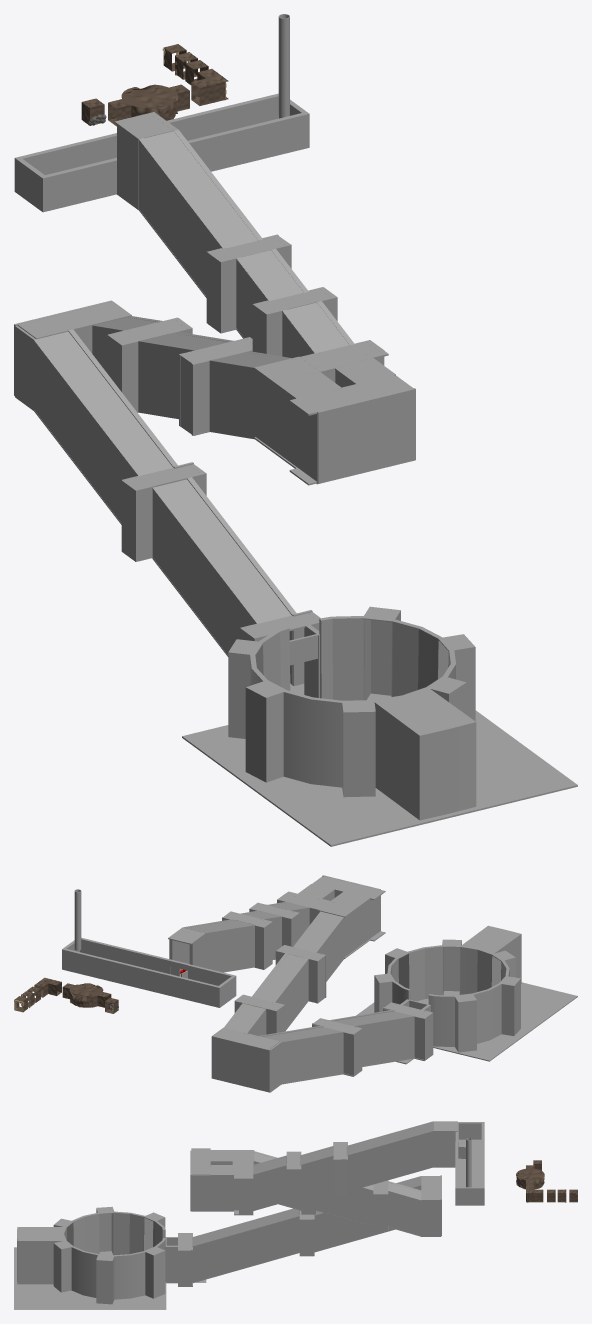
The model's file is TestUnityBlockout.fbx.
3 renders of one model, top to bottom at view 1: azimuth 30°, elevation 25°; view 2: azimuth 150°, elevation 25°; view 3: azimuth 270°, elevation 25°, orthographic. The views are drawn at different scales.
Visible parts, largest first — view 1: pCylinder1, pCube200, pCube122, pCube177, pCube193, pCube77, pCube217, pCube219, pCube68, pCube202, pCube69, pCube126 (+21 smaller); view 2: pCylinder1, pCube68, pCube200, pCube177, pCube166, pCube193, pCube77, pCube69, pCube126, pCube153, pCube152, pCube213 (+35 smaller); view 3: pCylinder1, pCube195, pCube78, pCube200, pCube113, pCube178, pCube154, pCube92, pCube86, pCube159, pCube219, pCube75 (+23 smaller).
Part boxes in pixels (x1,y1,x2,y2): pCylinder1: (228,606,476,820); pCube200: (182,693,577,846); pCube122: (317,388,415,483); pCube177: (34,339,143,522); pCube193: (152,486,262,655); pCube77: (139,138,227,296); pCube217: (33,331,172,475); pCube219: (152,479,291,623); pCube68: (19,93,278,174); pCube202: (139,131,257,248); pCube69: (188,112,309,171); pCube126: (255,370,317,484); pCylinder1: (374,925,521,1052); pCube68: (62,948,218,1007); pCube200: (356,982,577,1061); pCube177: (280,1031,343,1083); pCube166: (211,1035,270,1092); pCube193: (351,1015,414,1065); pCube77: (203,924,254,971); pCube69: (80,937,189,974); pCube126: (341,896,380,957); pCube153: (272,958,308,1030); pCube152: (314,916,343,980); pCube213: (255,954,305,1001); pCylinder1: (17,1206,165,1304); pCube195: (192,1215,299,1282); pCube78: (346,1130,432,1191); pCube200: (14,1247,166,1309); pCube113: (191,1174,238,1211); pCube178: (314,1184,421,1251); pCube154: (316,1187,373,1225); pCube92: (253,1164,286,1210); pCube86: (299,1154,333,1200); pCube159: (388,1189,421,1235); pCube219: (192,1209,299,1247); pCube75: (433,1130,455,1167).
Size of the model in its own units: 83.92 by 79.81 by 195.
